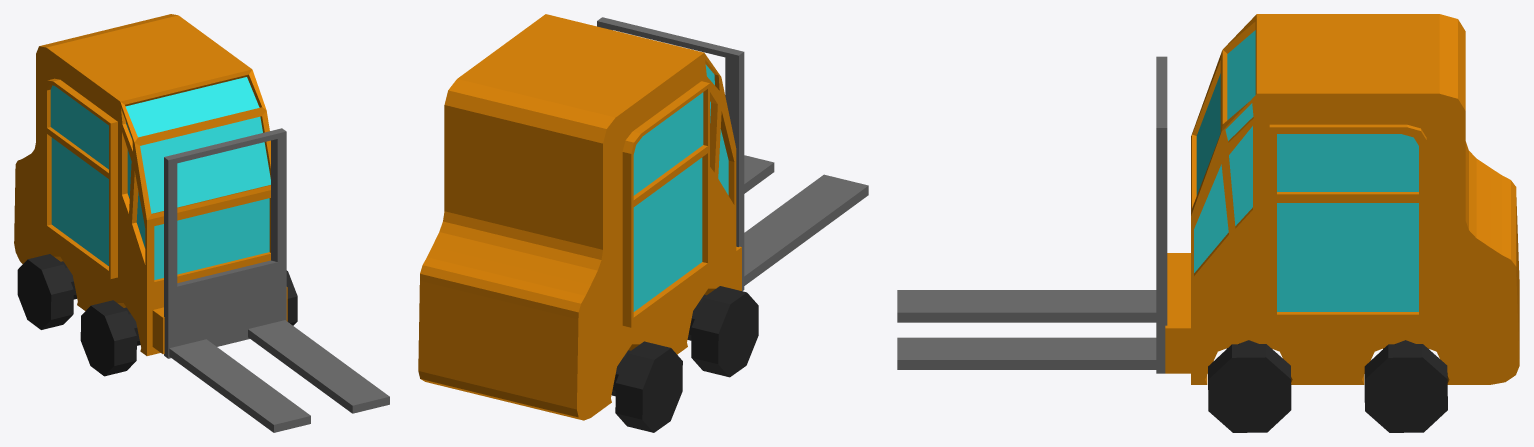
File: loading vehicle.fbx
3 renders of one model, left to right at view 1: azimuth 30°, elevation 25°; view 2: azimuth 150°, elevation 25°; view 3: azimuth 270°, elevation 25°, orthographic. The views are drawn at different scales.
Visible parts, largest first — view 1: Cube, Cube.003, Cube.001, Cube.002, Cylinder.001, Cylinder.002, Cube.004; view 2: Cube, Cube.002, Cylinder.002, Cylinder.001, Cube.003, Cube.001; view 3: Cube, Cube.002, Cube.001, Cylinder.002, Cylinder.001, Cube.003, Cube.004.
Part boxes in pixels (<box>): Cube: <box>14,14,270,355</box>; Cube.003: <box>164,128,286,358</box>; Cube.001: <box>248,320,389,413</box>; Cube.002: <box>169,339,310,432</box>; Cylinder.001: <box>80,270,297,376</box>; Cylinder.002: <box>17,254,77,329</box>; Cube.004: <box>152,287,287,354</box>; Cube: <box>418,14,736,420</box>; Cube.002: <box>744,174,868,285</box>; Cylinder.002: <box>611,341,682,432</box>; Cylinder.001: <box>687,286,758,377</box>; Cube.003: <box>597,17,744,291</box>; Cube.001: <box>744,155,774,193</box>; Cube: <box>1191,14,1519,384</box>; Cube.002: <box>897,290,1156,322</box>; Cube.001: <box>897,337,1156,369</box>; Cylinder.002: <box>1364,340,1447,432</box>; Cylinder.001: <box>1208,340,1291,432</box>; Cube.003: <box>1156,56,1167,373</box>; Cube.004: <box>1165,253,1190,373</box>.
Bounding box in the file's own units: 93.14 × 127 × 221.
